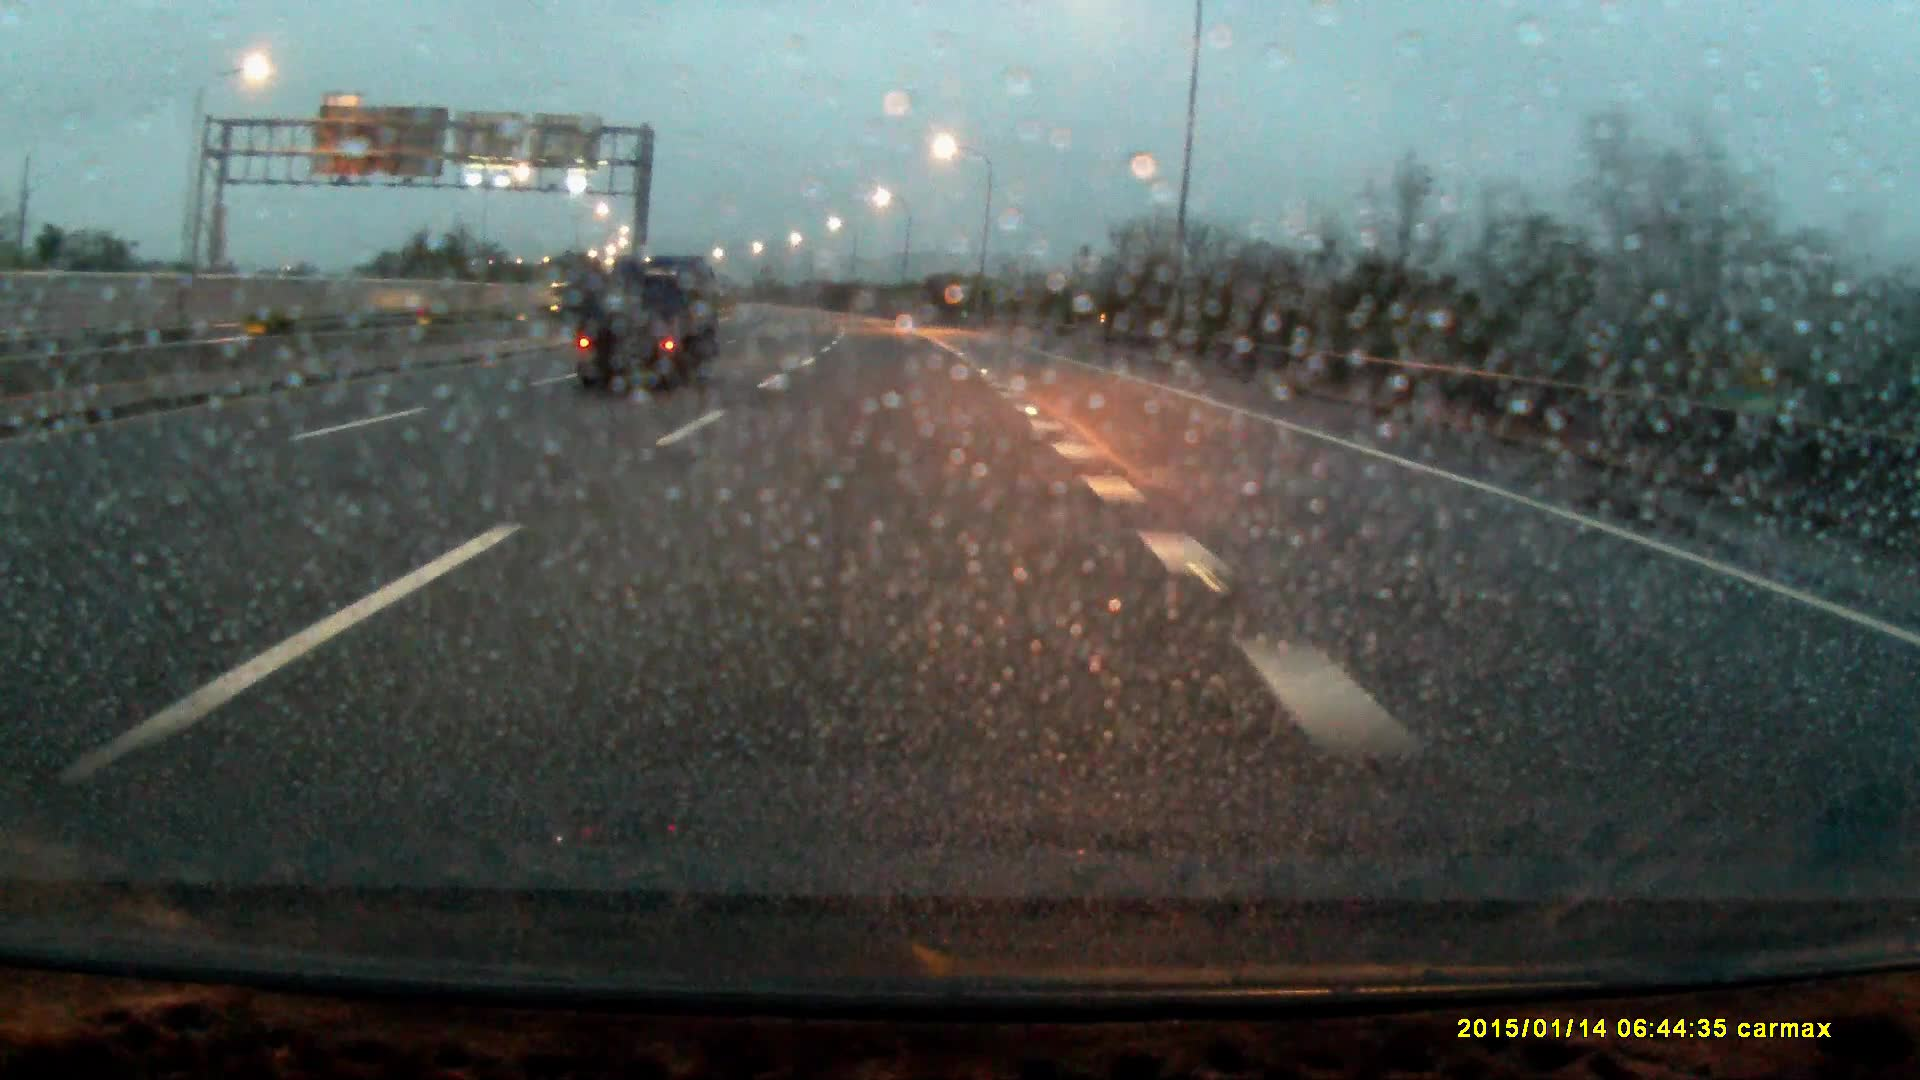vehicle: (568, 253, 723, 388)
